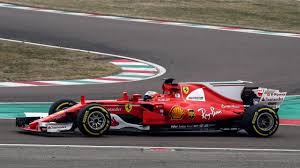f1_car: (12, 74, 292, 147)
